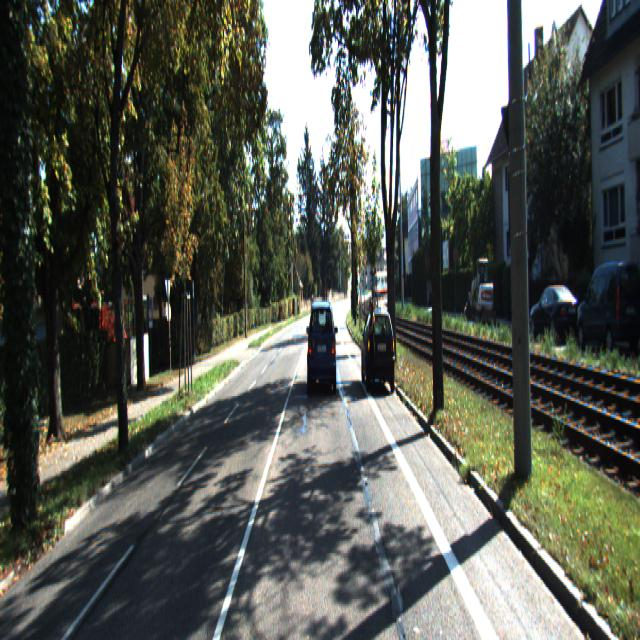Car: (577, 255, 640, 353), (530, 281, 584, 344), (307, 297, 338, 396), (360, 307, 395, 394), (476, 255, 494, 318)
